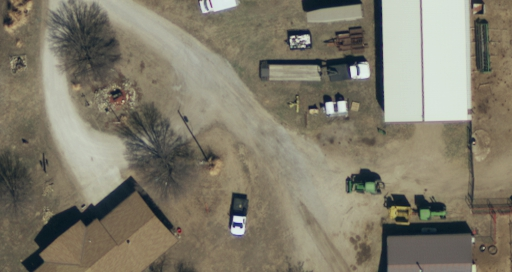DT: (192, 152, 218, 172)
